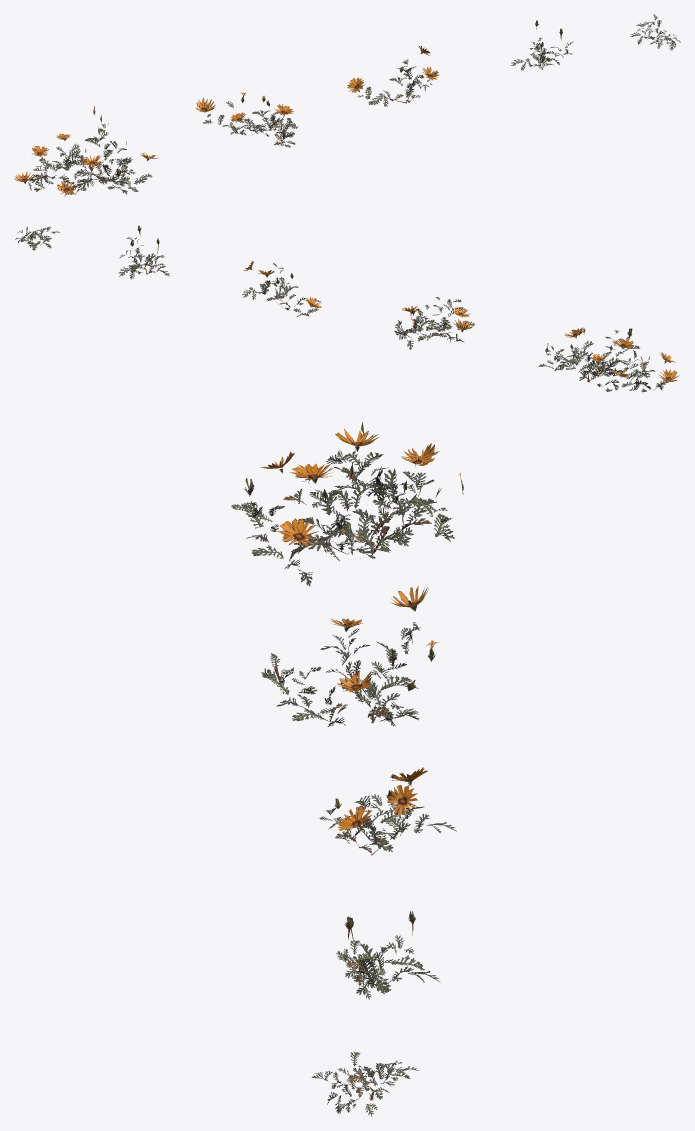
The model's file is flower_ursinia.glb.
The picture shows the model from 3 angles, top to bottom: view 1: azimuth 30°, elevation 25°; view 2: azimuth 150°, elevation 25°; view 3: azimuth 270°, elevation 25°; orthographic projection. The views are drawn at different scales.
Parts seen in each view (by area): view 1: flower_ursinia_a_LOD0; view 2: flower_ursinia_a_LOD0; view 3: flower_ursinia_a_LOD0.
Boxes of the visible parts, <box> form: flower_ursinia_a_LOD0: <box>14,14,680,196</box>; flower_ursinia_a_LOD0: <box>15,226,679,392</box>; flower_ursinia_a_LOD0: <box>231,422,463,1116</box>.
Size of the model in its own units: 2.19 by 0.1704 by 0.3342.
Materials: 1 (1 with a texture image).
